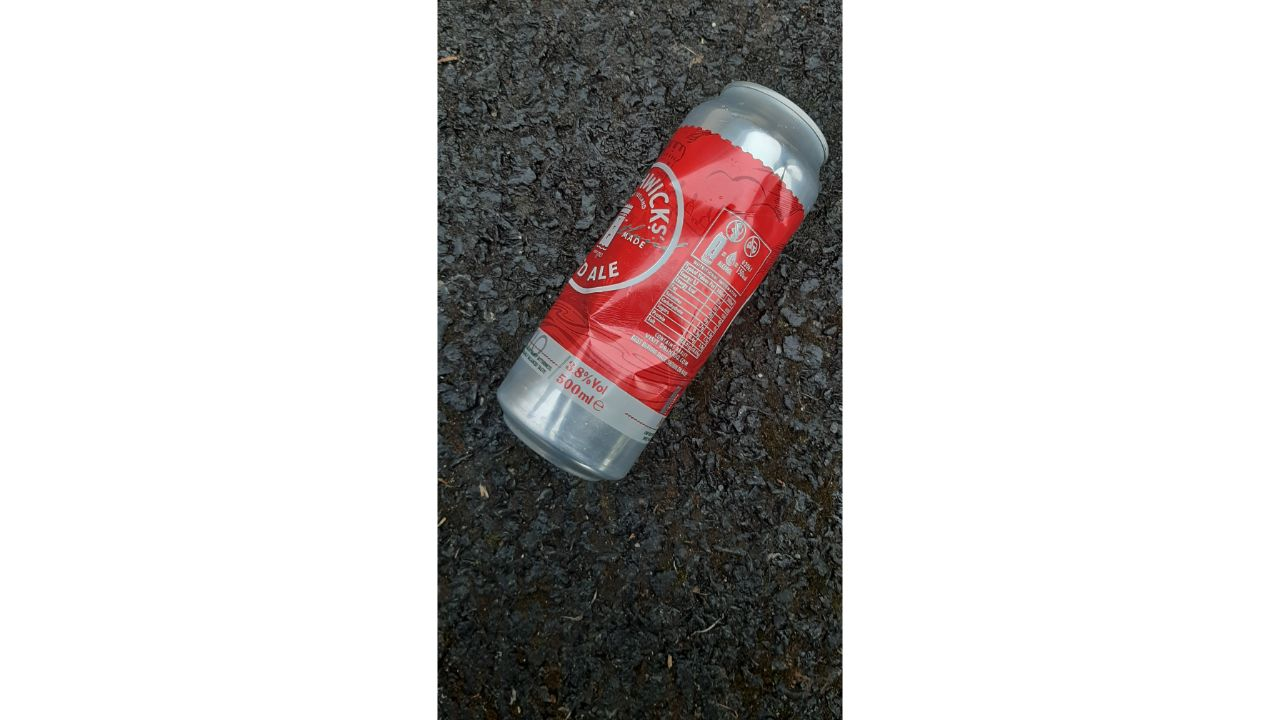Can: (486, 63, 839, 503)
